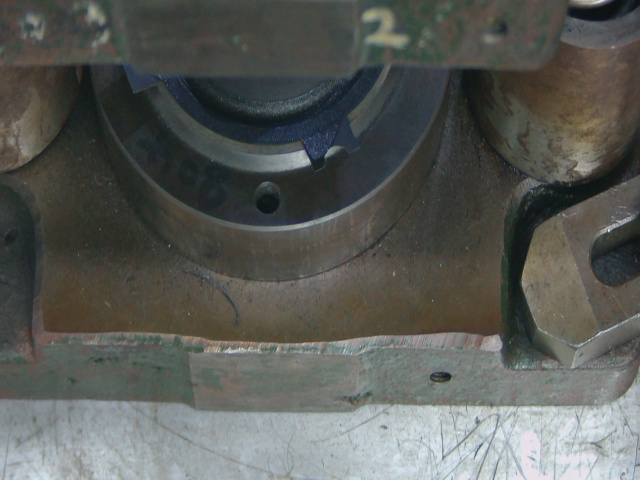NG: (302, 118, 373, 179)
